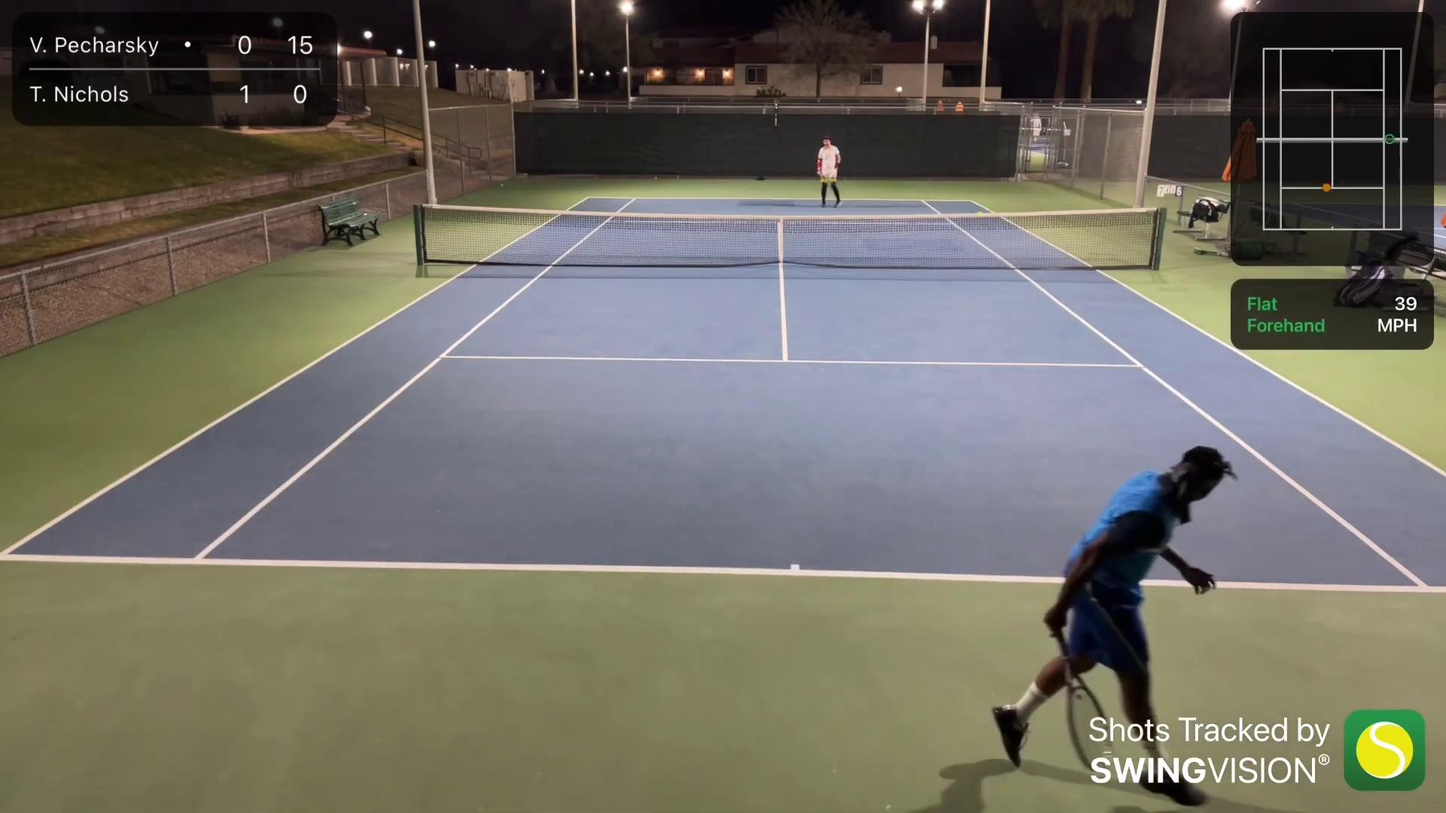ball: (975, 210, 984, 219)
